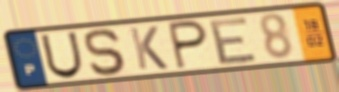8: (257, 11, 295, 62)
E: (208, 15, 260, 67)
K: (127, 24, 171, 71)
P: (166, 18, 211, 71)
S: (83, 27, 130, 77)
U: (38, 30, 85, 81)
